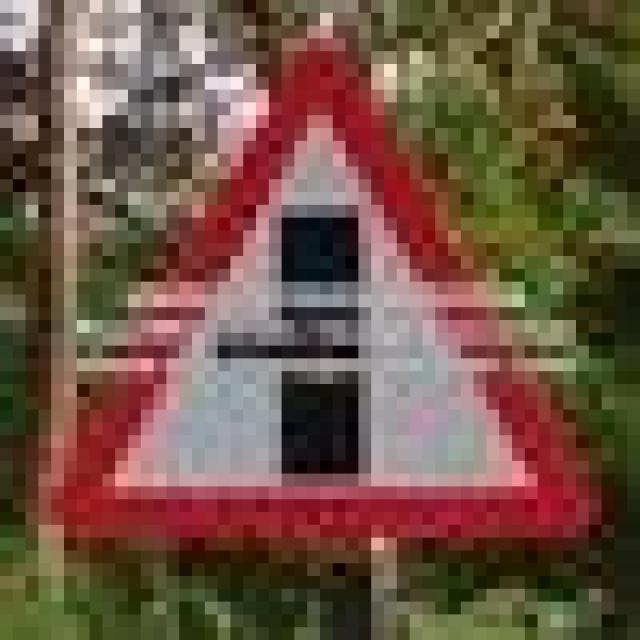side road left: (59, 41, 597, 536)
